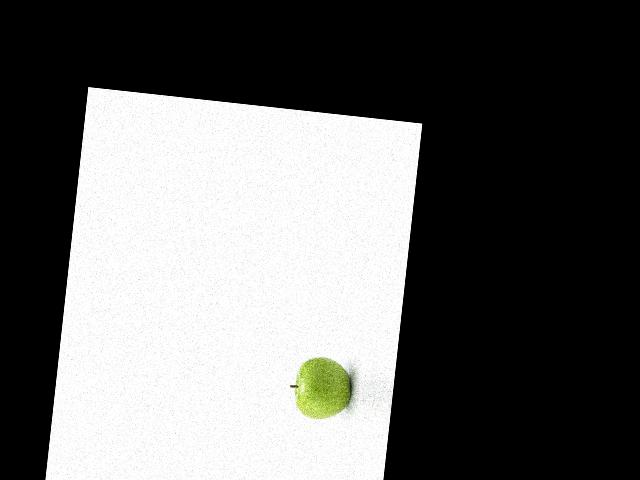apple: (287, 350, 356, 424)
